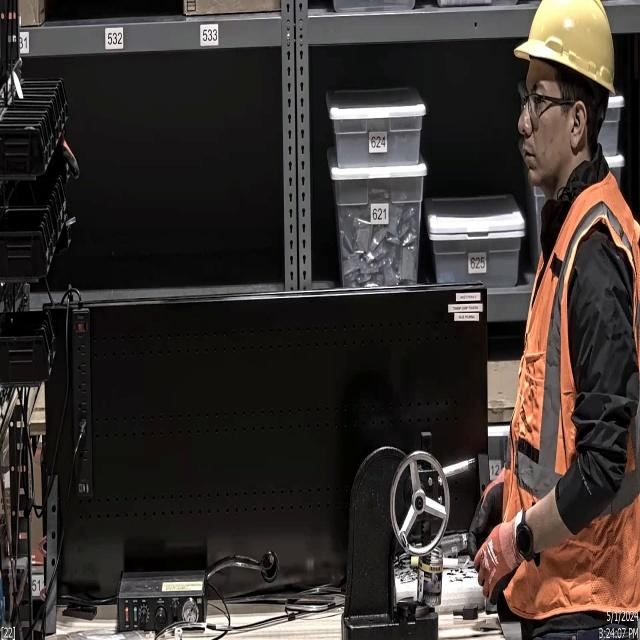gloves: (468, 511, 530, 613), (461, 464, 516, 564)
